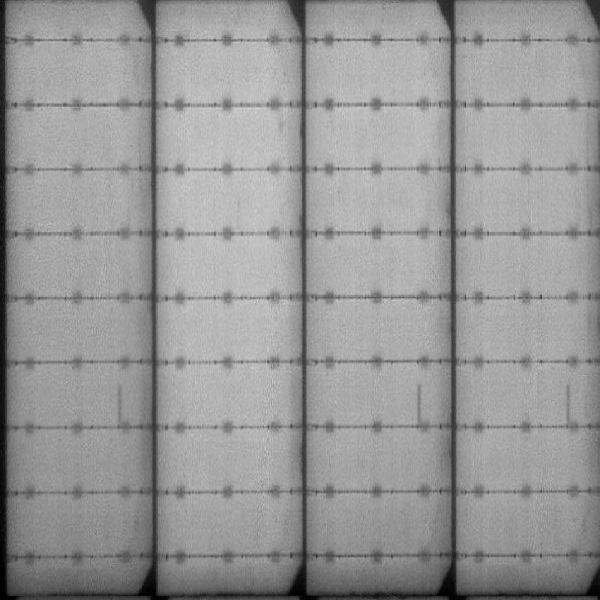scratch: (561, 385, 580, 430), (411, 383, 427, 428), (112, 384, 127, 428)
